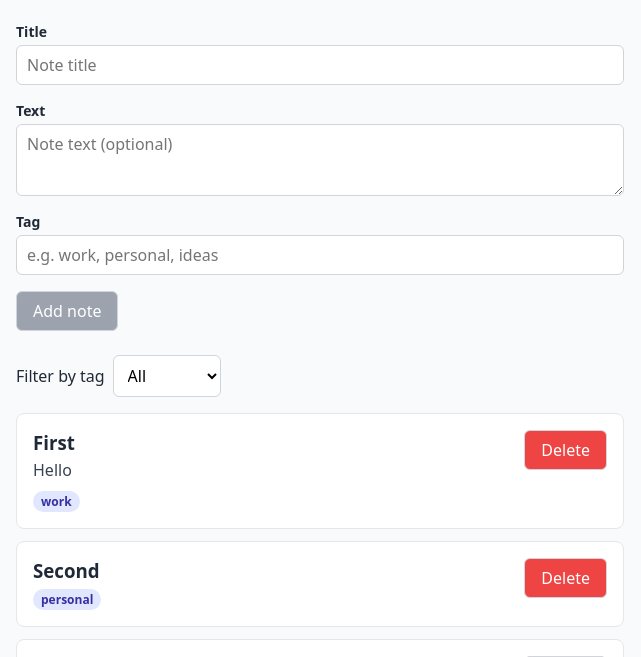
Test: Notes with tags UI › creates a note and refreshes the list without a reload
Check: the heading "First" is shown, box [33,430,80,455]
In the field labelled "Title": (320, 65) [16,45,624,85], type "New"
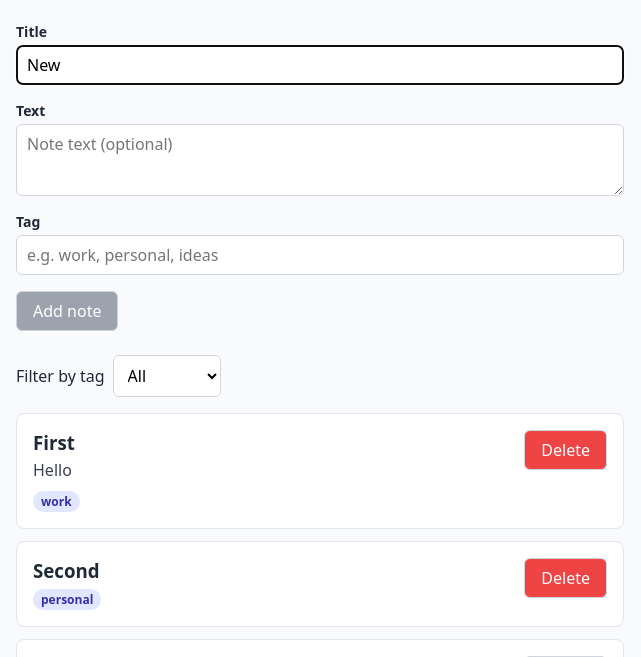
In the text box labelled "Text": (320, 160) [16,124,624,196], type "Body"
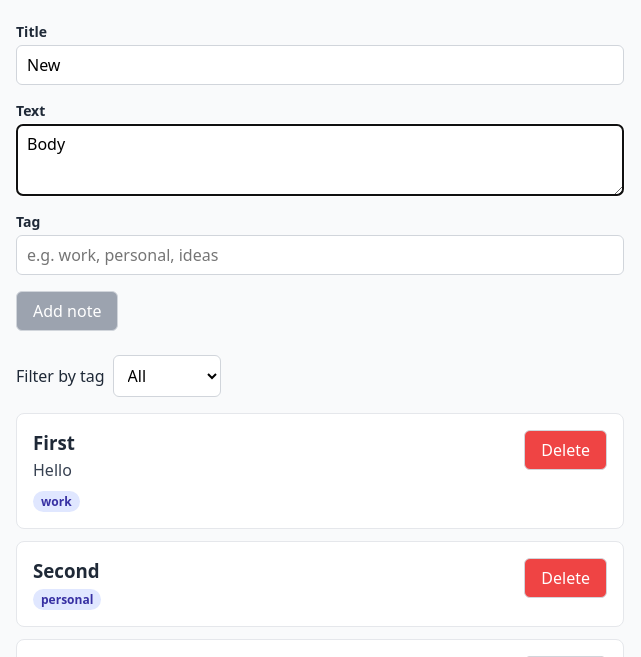
In the field labelled "Tag": (320, 255) [16,235,624,275], type "ideas"
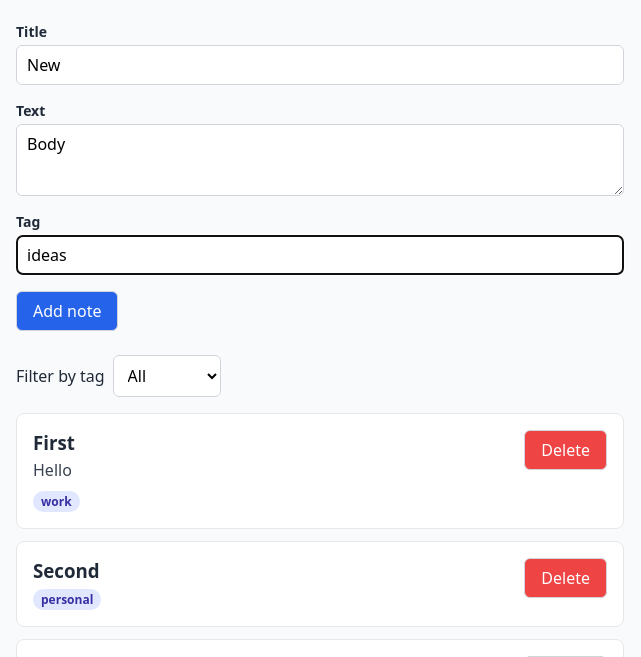
Click the button "Add note": (67, 311) [16,291,118,331]
(page scrolled)
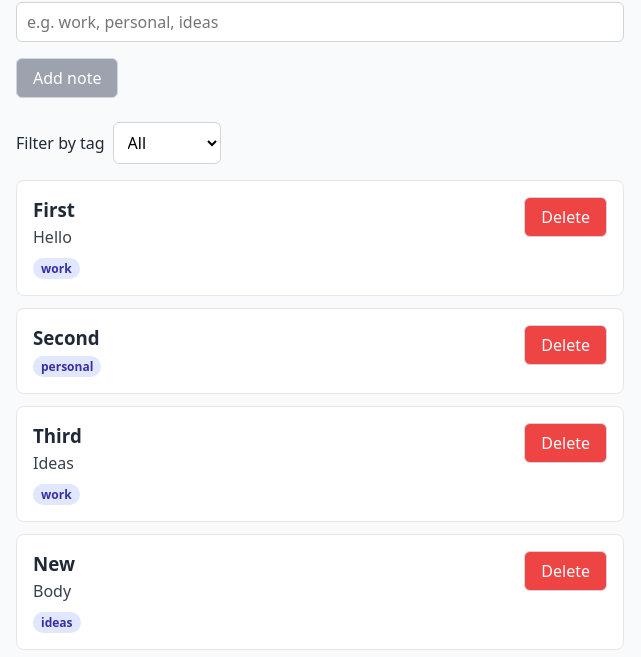
Check: the heading "New" is shown, box [33,551,81,576]
Check: the text "Body" is shown, box [33,580,71,602]
